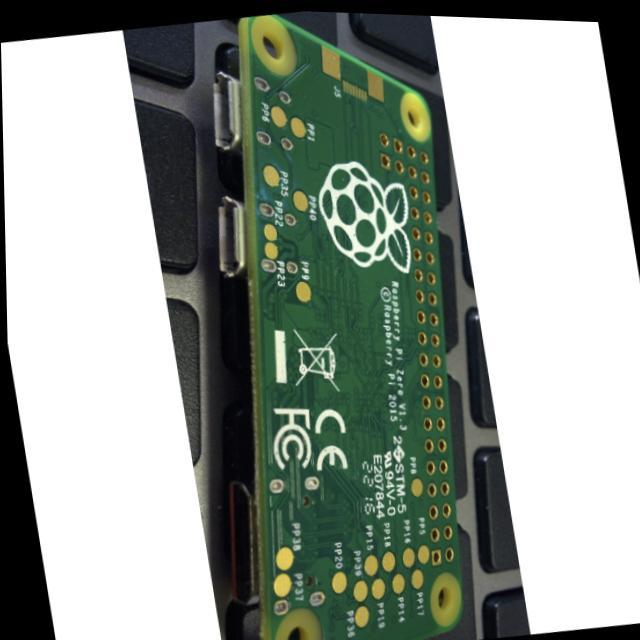Raspberry-Pi-Zero: (215, 17, 464, 640)
